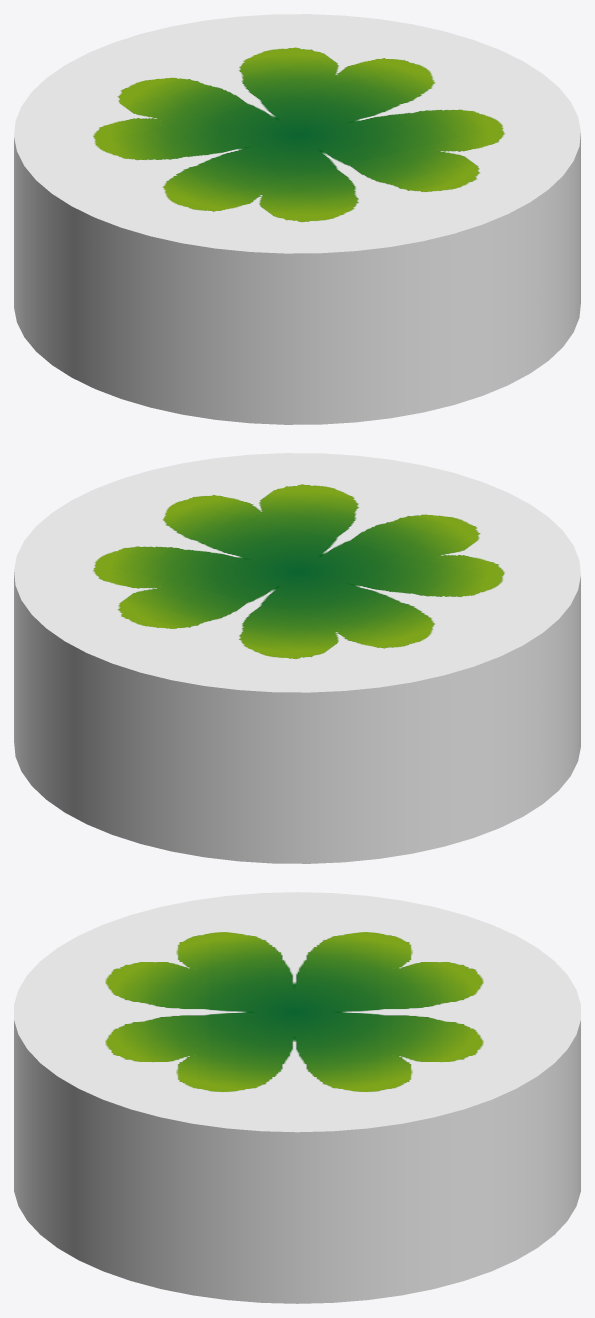
File: GreenButton.fbx
3 renders of one model, top to bottom at view 1: azimuth 30°, elevation 25°; view 2: azimuth 150°, elevation 25°; view 3: azimuth 270°, elevation 25°, orthographic.
Visible parts, largest first — view 1: pCylinder1; view 2: pCylinder1; view 3: pCylinder1.
Boxes of the visible parts, box(x1,y1,x2,y2) form: pCylinder1: box(14, 14, 580, 424); pCylinder1: box(14, 453, 580, 863); pCylinder1: box(14, 892, 580, 1303).
Bounding box in the file's own units: 3 × 1 × 2.99.
Materials: 1 (1 with a texture image).
